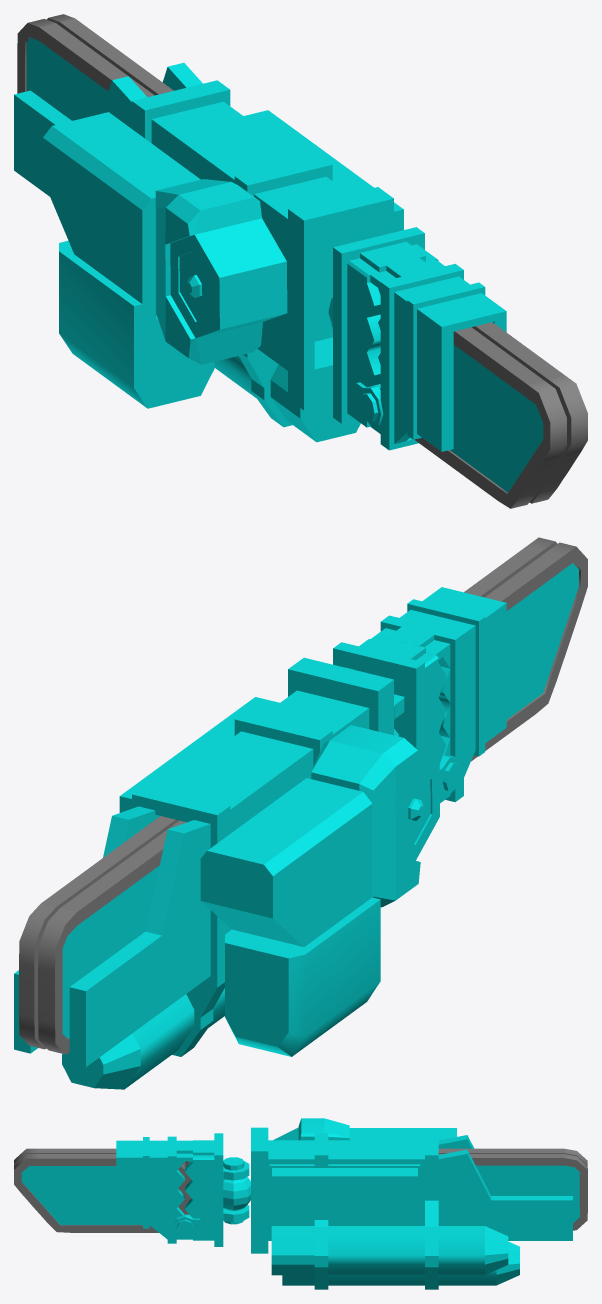
File: Chainsaw Revised Final.fbx
The picture shows the model from 3 angles, top to bottom: view 1: azimuth 30°, elevation 25°; view 2: azimuth 150°, elevation 25°; view 3: azimuth 270°, elevation 25°; orthographic projection. The views are drawn at different scales.
Parts seen in each view (by area): view 1: Engine, Chassis, Break_Sheath, WristCasing, Chain_Tip (×2), Chain_Top (×4), BladeTip, BladeExt, Tanks, BladeExt1, ChainBack, Chain_Bottom (+1 smaller); view 2: Engine, Chassis, Break_Sheath, WristCasing, ChainBack (×2), Tanks, Chain_Top (×4), BladeTip, Chain_Tip (×2), BladeExt1, BladeExt, BladeEnd; view 3: Chassis, Tanks, Break_Sheath, WristCasing, BladeTip, BladeExt1, Engine, BladeExt, Chain_Tip (×2), Chain_Top (×3), Wrist_Joint, ChainBack (+2 smaller).
Boxes of the visible parts, x1,y1,x2,y2 form: Engine: [43, 112, 287, 408]; Chassis: [14, 62, 403, 427]; Break_Sheath: [368, 258, 506, 451]; WristCasing: [333, 227, 438, 427]; Chain_Tip (×2): [488, 347, 587, 508]; Chain_Top (×4): [39, 18, 525, 369]; BladeTip: [490, 371, 543, 492]; BladeExt: [450, 344, 490, 479]; Tanks: [214, 356, 360, 442]; BladeExt1: [41, 42, 108, 120]; ChainBack: [17, 19, 55, 93]; Chain_Bottom: [414, 438, 489, 493]; Engine: [200, 725, 439, 1056]; Chassis: [14, 657, 393, 1066]; Break_Sheath: [370, 587, 506, 803]; WristCasing: [333, 636, 461, 796]; ChainBack (×2): [19, 903, 76, 1054]; Tanks: [62, 988, 224, 1089]; Chain_Top (×4): [41, 579, 525, 925]; BladeTip: [524, 563, 578, 706]; Chain_Tip (×2): [488, 537, 587, 720]; BladeExt1: [75, 872, 150, 982]; BladeExt: [506, 599, 524, 719]; BladeEnd: [62, 928, 74, 1038]; Chassis: [251, 1127, 572, 1289]; Tanks: [271, 1226, 519, 1285]; Break_Sheath: [116, 1136, 192, 1243]; WristCasing: [173, 1133, 249, 1246]; BladeTip: [21, 1166, 80, 1224]; BladeExt1: [482, 1165, 564, 1195]; Engine: [273, 1118, 456, 1140]; BladeExt: [80, 1166, 116, 1224]; Chain_Tip (×2): [14, 1148, 80, 1232]; Chain_Top (×3): [80, 1148, 564, 1165]; Wrist_Joint: [223, 1177, 250, 1210]; ChainBack: [564, 1154, 587, 1230].
Size of the model in its own units: 0.3649 by 0.3767 by 1.4.
